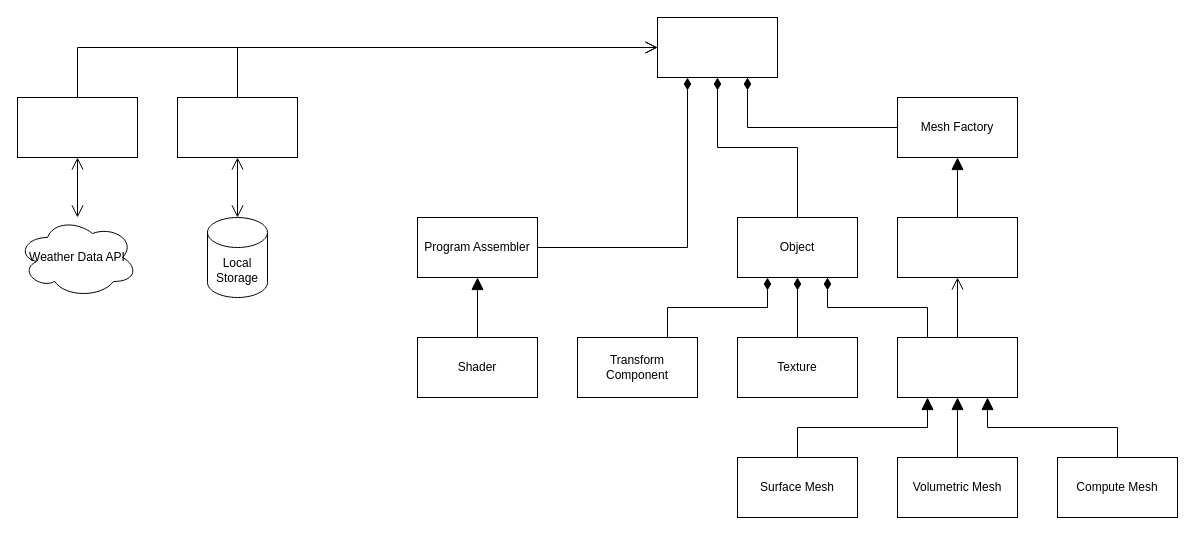
Image size: 1195x535. Some labels were removed from this diagram. Each missing label, with the centre of its shape:
"GCS Spherical Mesh Factory" goes at point (957, 247).
"Main" goes at point (717, 47).
"Mesh" goes at point (957, 367).
"Resource Handler" goes at point (237, 127).
"Weather Data Handler" goes at point (77, 127).
